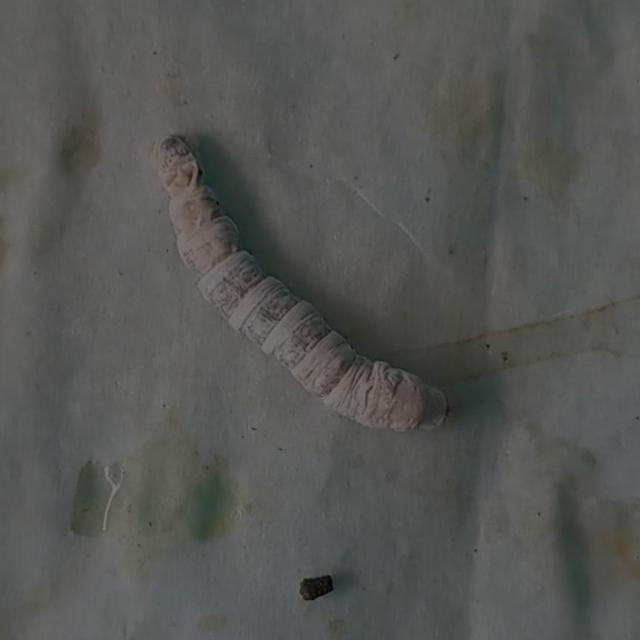Grasserie: (140, 119, 460, 453)
